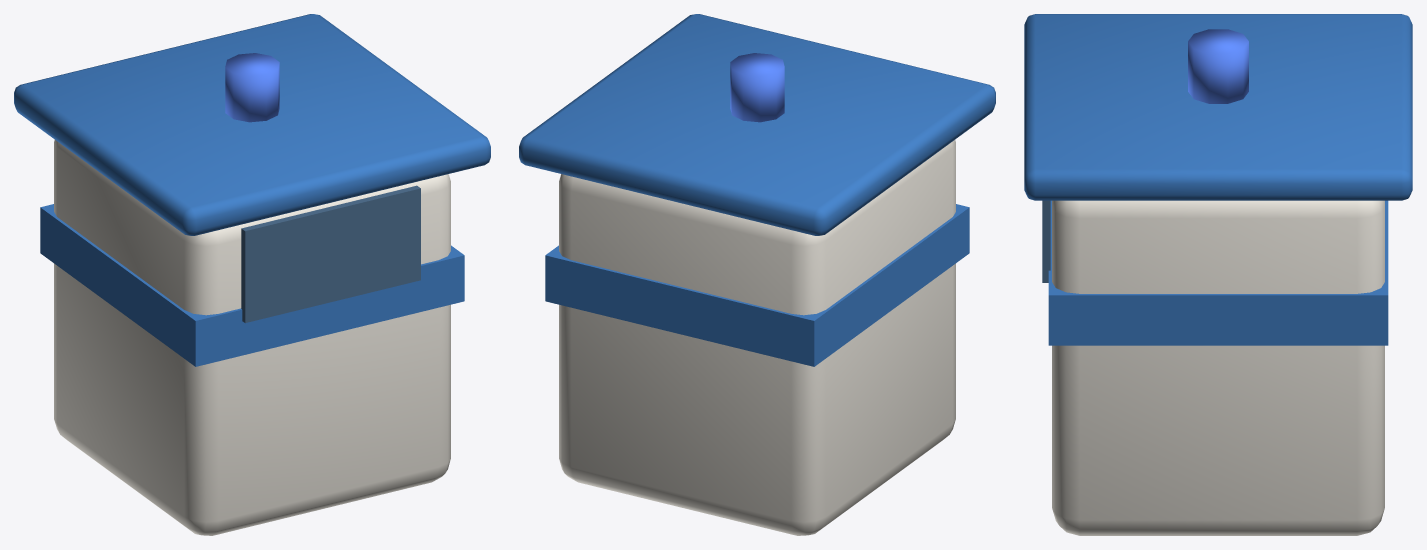
The model's file is police_booth.gltf.
3 views of the same model, side by side, from view 1: azimuth 30°, elevation 25°; view 2: azimuth 150°, elevation 25°; view 3: azimuth 270°, elevation 25° (orthographic). The views are drawn at different scales.
Parts seen in each view (by area): view 1: police_booth_mesh; view 2: police_booth_mesh; view 3: police_booth_mesh.
Boxes of the visible parts, box(x1,y1,x2,y2) form: police_booth_mesh: box(14, 14, 490, 535); police_booth_mesh: box(519, 14, 995, 535); police_booth_mesh: box(1024, 14, 1412, 535).
Size of what is drawn, in the model's own units: 2.8 by 3.45 by 2.8.
